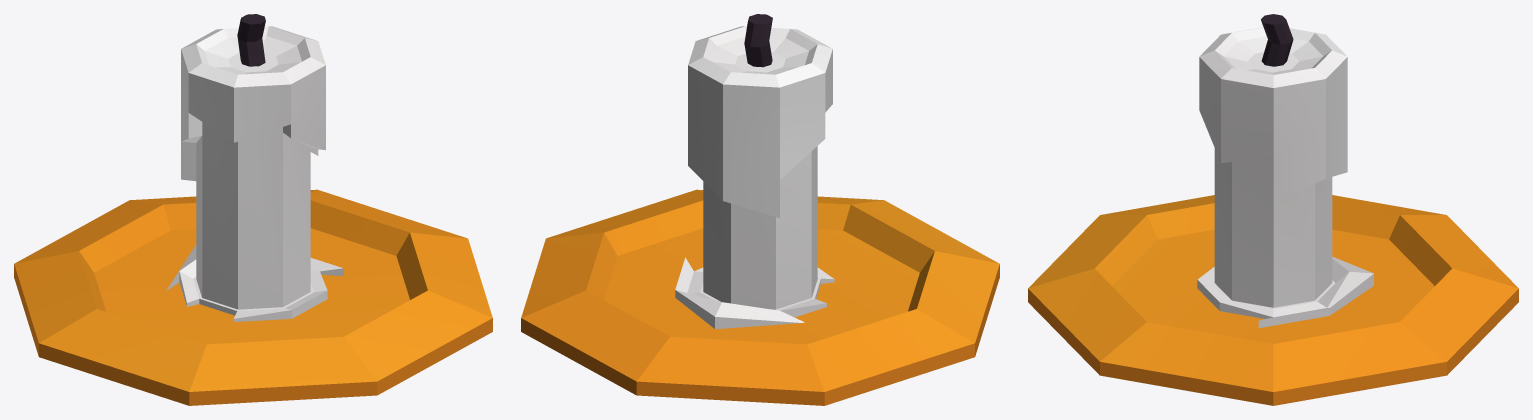
File: Candle.fbx
The picture shows the model from 3 angles, left to right: view 1: azimuth 30°, elevation 25°; view 2: azimuth 150°, elevation 25°; view 3: azimuth 270°, elevation 25°; orthographic projection.
Visible parts, largest first — view 1: Cylinder; view 2: Cylinder; view 3: Cylinder.
Boxes of the visible parts, x1,y1,x2,y2 form: Cylinder: (14, 14, 492, 405); Cylinder: (521, 14, 999, 405); Cylinder: (1028, 14, 1518, 405).
Bounding box in the file's own units: 418 × 266 × 418.
